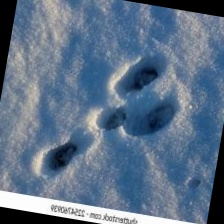rabbit: (29, 29, 195, 201)
